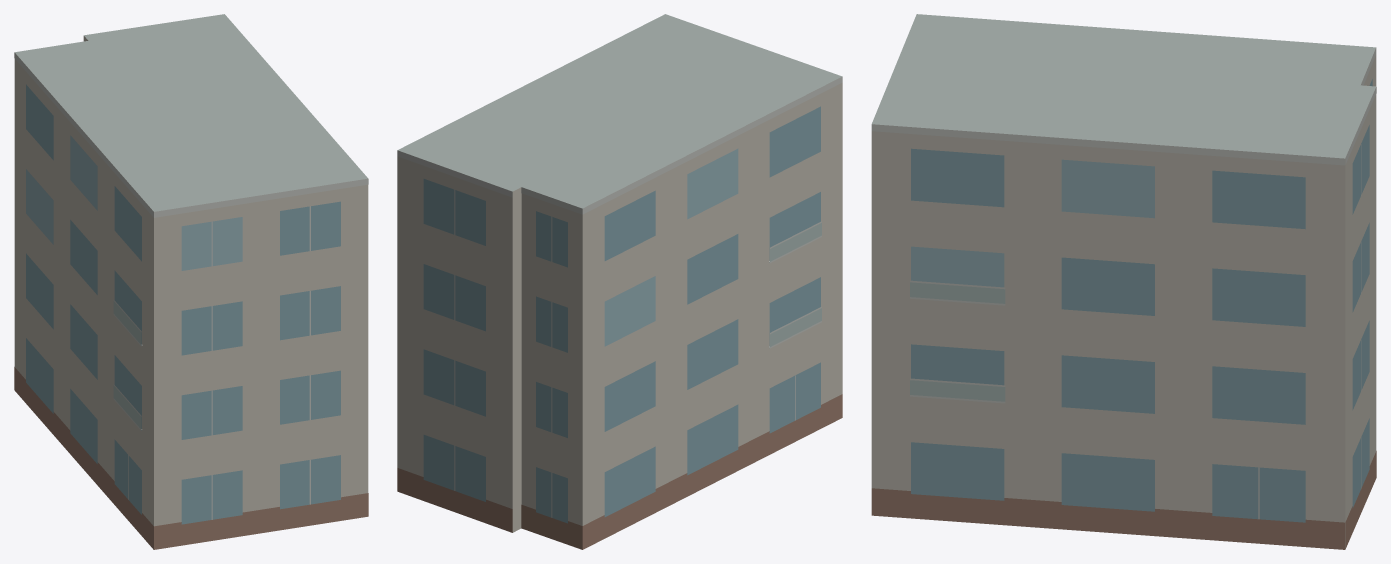
File: survey-upis-32870692.glb
3 views of the same model, side by side, from view 1: azimuth 30°, elevation 25°; view 2: azimuth 150°, elevation 25°; view 3: azimuth 270°, elevation 25° (orthographic). The views are drawn at different scales.
Visible parts, largest first — view 1: survey-upis-32870692.tmp; view 2: survey-upis-32870692.tmp; view 3: survey-upis-32870692.tmp.
Part boxes in pixels (bbox=[...]): survey-upis-32870692.tmp: bbox=[14, 14, 368, 549]; survey-upis-32870692.tmp: bbox=[397, 14, 842, 549]; survey-upis-32870692.tmp: bbox=[871, 14, 1376, 549].
Bounding box in the file's own units: 10.86 × 13.7 × 16.03.
